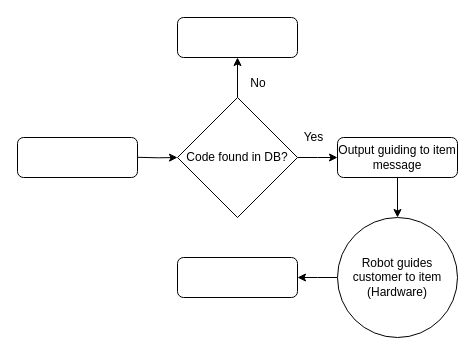
Image size: 475x355. Some labels were removed from this diagram. Here are the shapes that lost their labels. From the top down, the centre of each, then its label:
At point 237,37: "Output item not found message".
At point 77,157: "User inputs item code".
At point 237,277: "If item found output message".
